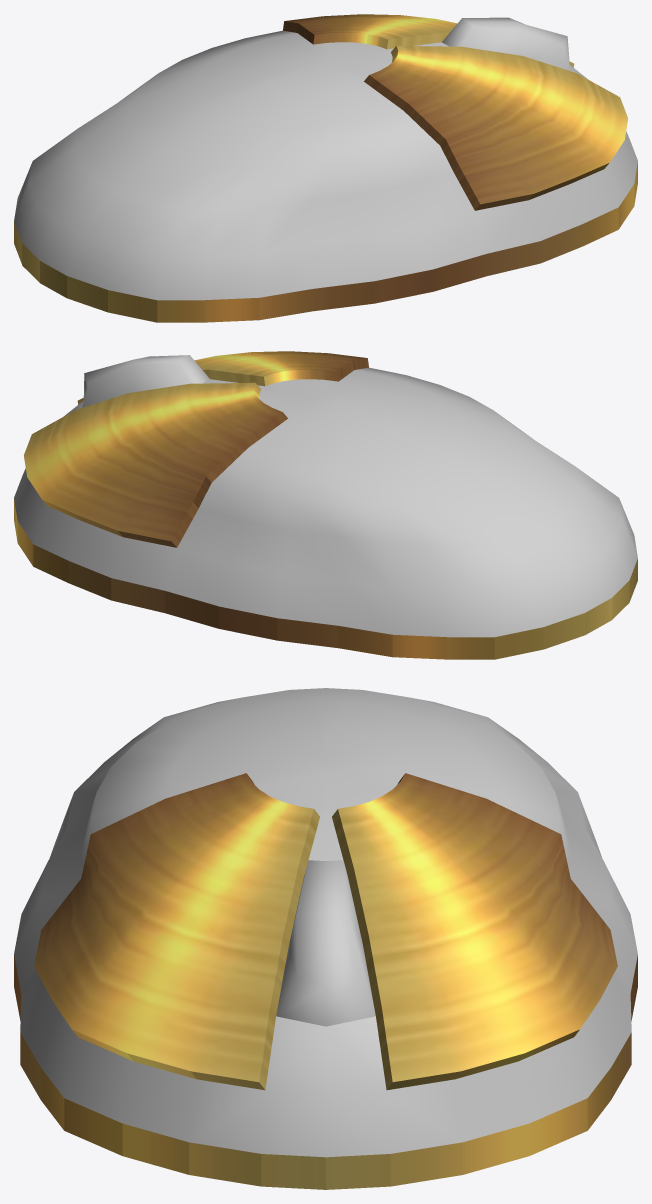
Rendered from souris.FBX.
The picture shows the model from 3 angles, top to bottom: view 1: azimuth 30°, elevation 25°; view 2: azimuth 150°, elevation 25°; view 3: azimuth 270°, elevation 25°; orthographic projection. The views are drawn at different scales.
Parts seen in each view (by area): view 1: Sphère001, Objet007, Objet006, Objet005; view 2: Sphère001, Objet007, Objet006, Objet005; view 3: Objet007, Sphère001, Objet006, Objet005.
Boxes of the visible parts, x1,y1,x2,y2 form: Sphère001: [14, 30, 637, 300]; Objet007: [283, 14, 627, 210]; Objet006: [14, 162, 637, 322]; Objet005: [442, 17, 570, 70]; Sphère001: [14, 367, 637, 637]; Objet007: [24, 351, 368, 547]; Objet006: [14, 499, 637, 659]; Objet005: [82, 355, 209, 407]; Objet007: [34, 773, 617, 1090]; Sphère001: [14, 688, 637, 1157]; Objet006: [14, 955, 637, 1189]; Objet005: [276, 860, 375, 1026].
Size of the model in its own units: 21.18 by 5.53 by 13.74.
